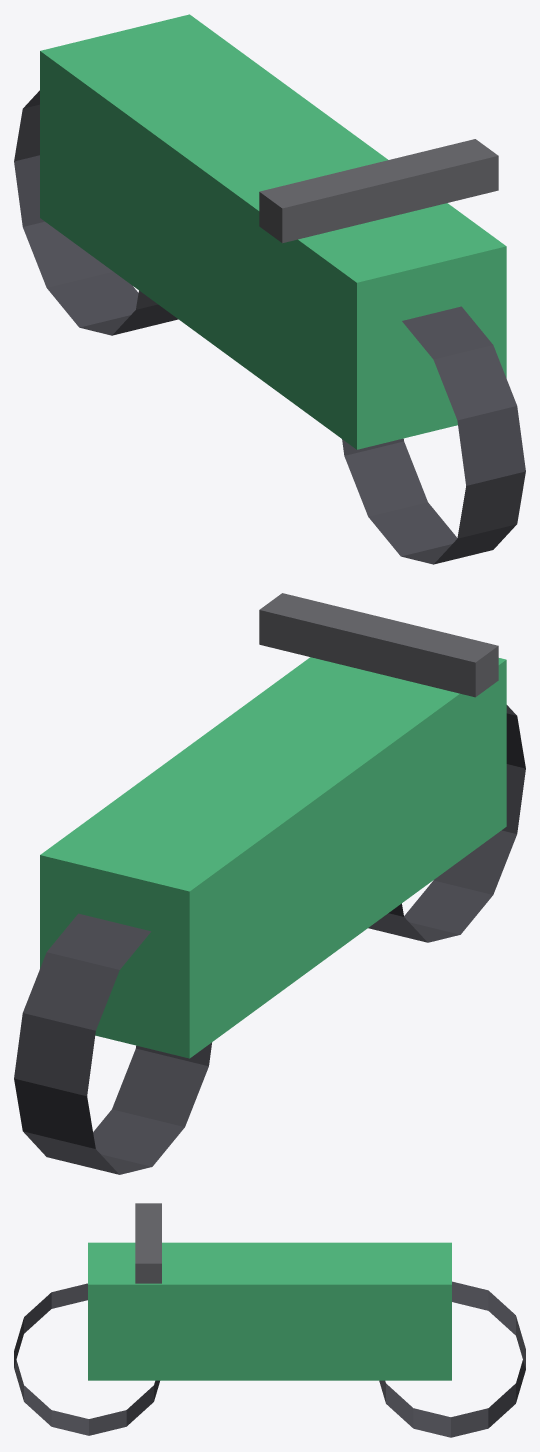
Rendered from vehicle_motorcycle.glb.
3 views of the same model, one above another, from view 1: azimuth 30°, elevation 25°; view 2: azimuth 150°, elevation 25°; view 3: azimuth 270°, elevation 25° (orthographic). The views are drawn at different scales.
Parts seen in each view (by area): view 1: PCJ600Bike; view 2: PCJ600Bike; view 3: PCJ600Bike.
Boxes of the visible parts, x1,y1,x2,y2 form: PCJ600Bike: [14, 14, 525, 564]; PCJ600Bike: [14, 593, 525, 1174]; PCJ600Bike: [14, 1203, 525, 1437].
Bounding box in the file's own units: 0.65 × 0.97 × 2.32.
